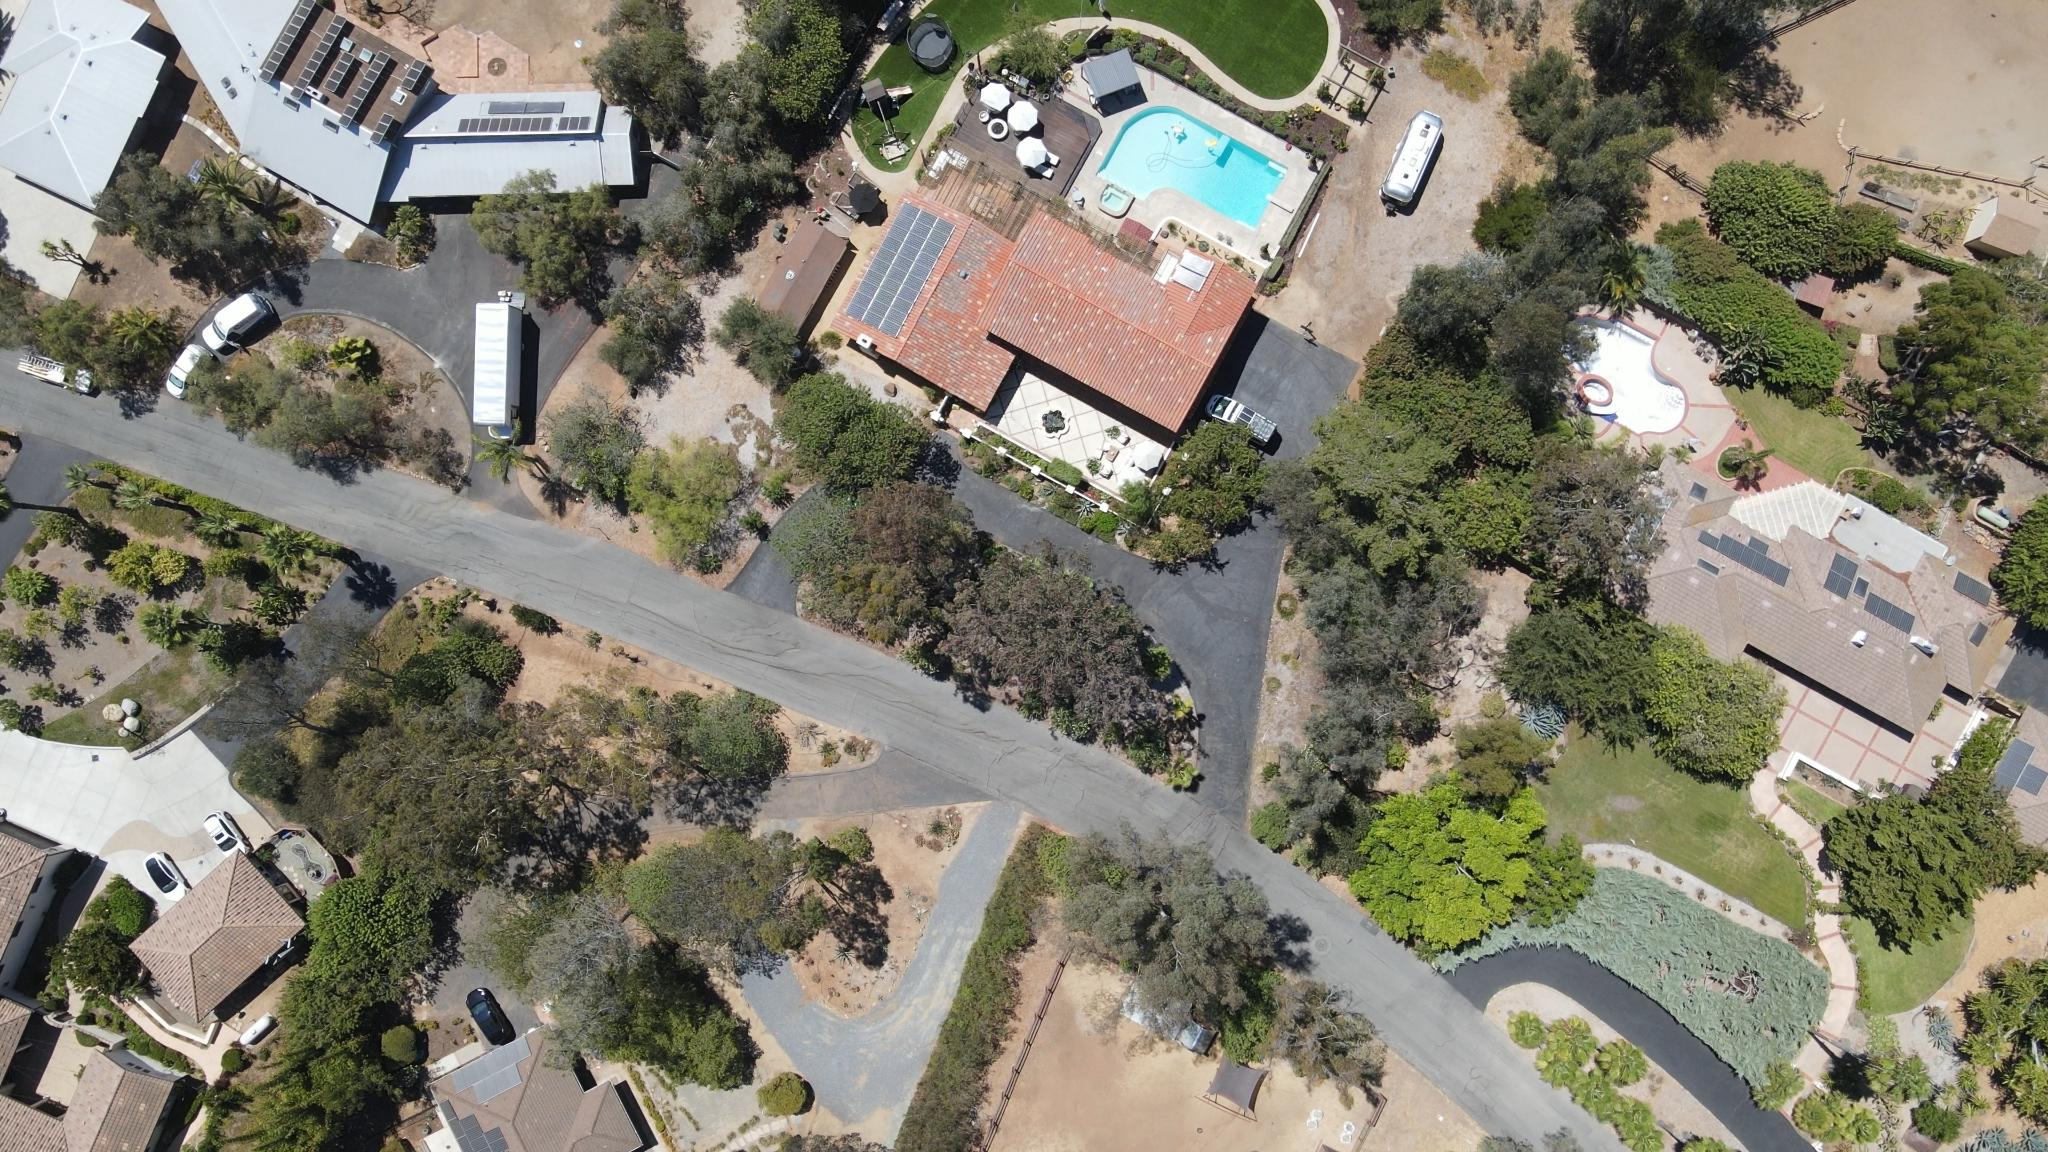solar-panels: (843, 199, 957, 337), (450, 1035, 532, 1104), (1697, 529, 1791, 588), (289, 13, 348, 101), (257, 0, 316, 85), (337, 49, 390, 128), (1985, 736, 2048, 798), (439, 1099, 510, 1152), (1863, 591, 1916, 636), (1822, 553, 1859, 601), (457, 117, 554, 133), (1952, 571, 1994, 606), (323, 50, 356, 94), (400, 58, 427, 91), (369, 111, 394, 145), (557, 116, 592, 131)
